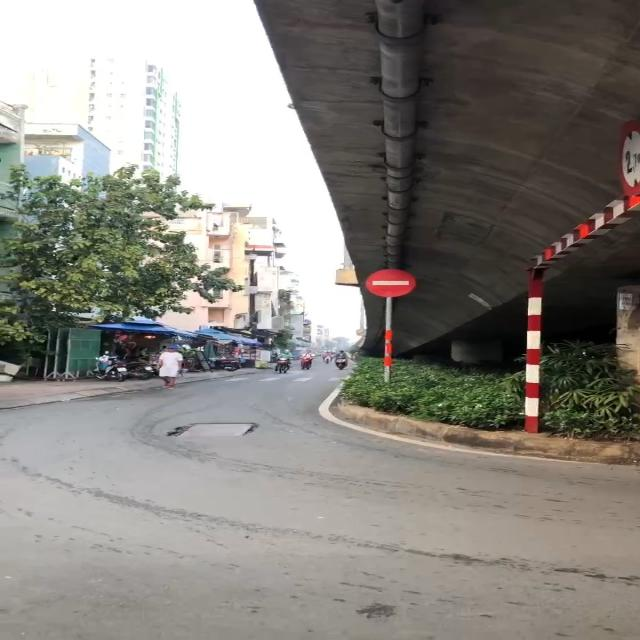Bien bao cam di nguoc chieu: (354, 264, 420, 300)
